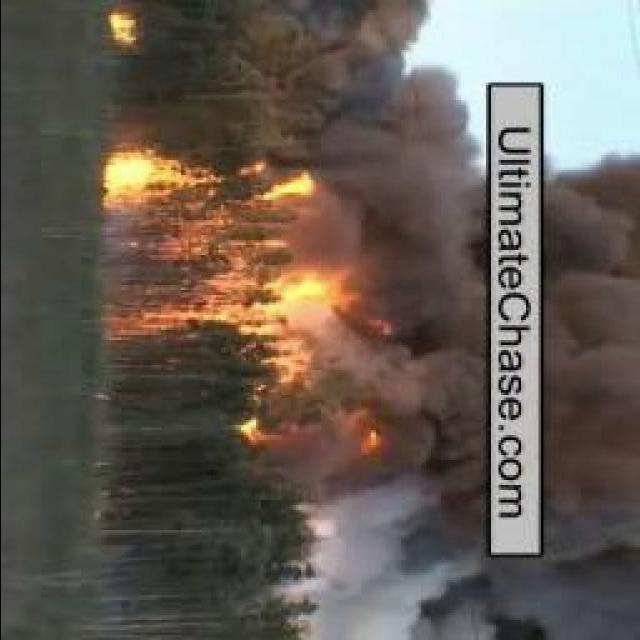Fire: (101, 153, 328, 333), (224, 414, 390, 458), (100, 8, 146, 54)
